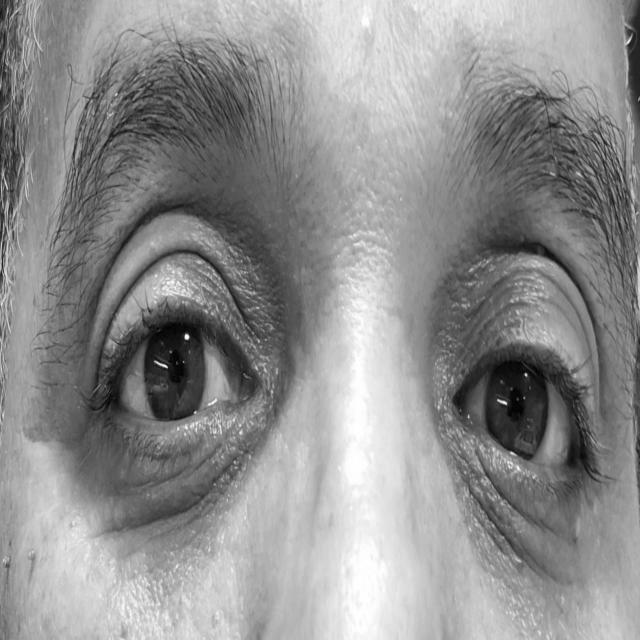real: (66, 162, 614, 570)
